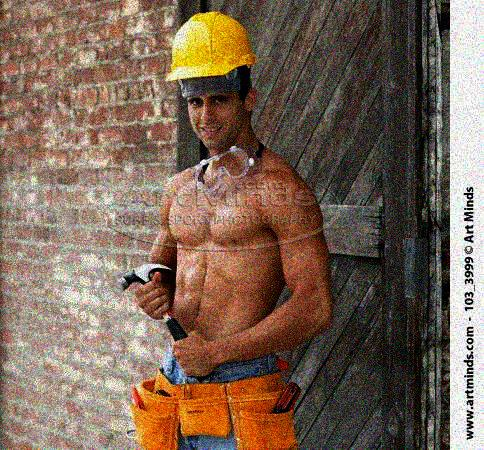helmet: (163, 12, 257, 151)
